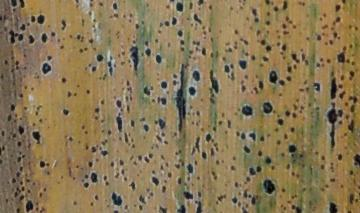tarspot: (173, 62, 187, 134), (325, 99, 336, 151), (209, 67, 220, 96), (128, 45, 140, 71), (262, 178, 276, 196), (114, 109, 124, 134), (260, 100, 275, 116), (240, 103, 255, 117), (39, 61, 53, 76), (106, 54, 115, 76), (110, 191, 123, 206), (31, 130, 43, 146), (329, 76, 337, 99), (267, 69, 279, 84), (192, 198, 204, 213), (193, 134, 202, 154), (237, 57, 248, 72), (156, 116, 167, 131), (191, 12, 203, 24), (37, 12, 46, 28), (327, 200, 338, 213), (214, 193, 227, 204), (127, 180, 138, 193), (336, 51, 346, 65), (90, 171, 100, 185), (352, 151, 360, 168), (346, 119, 355, 134), (289, 52, 300, 64), (186, 85, 197, 97), (158, 78, 169, 90), (142, 84, 153, 96), (290, 203, 303, 213), (186, 162, 196, 175), (154, 53, 164, 66), (40, 31, 49, 45), (239, 78, 247, 93), (242, 143, 252, 155), (191, 70, 201, 82), (156, 204, 169, 213), (27, 32, 36, 45), (8, 29, 15, 45), (287, 144, 298, 154), (312, 81, 322, 92), (182, 190, 193, 200), (176, 203, 187, 213), (95, 52, 105, 63), (9, 1, 19, 12), (333, 2, 342, 14), (280, 1, 289, 13), (248, 131, 257, 143), (210, 169, 219, 181), (151, 176, 160, 188), (18, 1, 27, 13), (348, 70, 356, 83), (257, 78, 265, 91), (59, 18, 67, 31), (25, 200, 33, 213), (247, 166, 257, 176), (114, 98, 123, 109), (238, 36, 249, 45), (277, 202, 288, 211), (348, 192, 355, 206), (171, 15, 178, 29), (347, 95, 359, 103), (328, 160, 335, 173), (275, 117, 285, 126), (250, 7, 259, 17), (261, 54, 271, 63), (229, 195, 239, 204), (59, 76, 69, 85), (227, 71, 236, 81), (137, 193, 146, 203), (97, 73, 107, 82), (175, 2, 183, 13), (142, 123, 150, 134), (17, 124, 25, 135), (154, 133, 162, 144), (289, 193, 300, 201), (122, 131, 128, 145), (79, 17, 86, 29), (208, 97, 217, 106), (195, 190, 204, 199), (100, 148, 109, 157), (65, 133, 74, 142), (338, 90, 346, 100), (280, 42, 288, 52), (254, 28, 262, 38), (264, 155, 272, 165), (195, 1, 205, 9), (19, 22, 27, 32), (17, 32, 25, 42), (124, 85, 134, 93), (337, 106, 343, 119), (226, 117, 232, 130), (189, 146, 196, 157), (29, 14, 36, 25), (336, 152, 344, 161), (349, 103, 355, 115), (289, 125, 297, 134), (251, 16, 260, 24), (243, 188, 249, 200), (61, 108, 70, 116), (82, 180, 90, 189), (97, 1, 106, 9), (263, 19, 273, 26), (129, 119, 136, 129), (160, 96, 167, 106), (223, 63, 230, 73), (176, 176, 183, 186), (87, 159, 94, 169), (280, 30, 291, 36), (240, 129, 246, 140), (204, 132, 210, 143), (201, 150, 207, 161), (66, 89, 72, 100), (214, 141, 220, 152), (125, 103, 131, 114), (209, 144, 214, 157), (334, 15, 342, 23), (315, 34, 323, 42), (282, 132, 290, 140), (291, 103, 299, 111), (259, 38, 267, 46), (144, 48, 152, 56), (176, 29, 184, 37), (160, 185, 168, 193), (45, 54, 53, 62), (93, 106, 101, 114), (87, 37, 95, 45), (163, 161, 171, 169), (100, 138, 108, 146), (314, 104, 322, 112), (250, 53, 257, 62), (256, 148, 263, 157), (255, 164, 262, 173), (328, 176, 337, 183), (285, 162, 292, 171), (250, 196, 257, 205), (240, 206, 249, 213), (99, 97, 106, 106), (77, 45, 84, 54), (118, 158, 125, 167), (173, 149, 182, 156), (124, 78, 131, 87), (83, 142, 90, 151), (297, 1, 307, 7), (300, 50, 305, 62), (253, 85, 259, 95), (200, 46, 206, 56), (188, 1, 193, 13), (112, 1, 118, 11), (10, 101, 15, 113), (6, 114, 12, 124), (143, 155, 149, 165), (214, 50, 220, 60), (125, 95, 131, 105), (329, 68, 336, 76), (285, 75, 293, 82), (291, 111, 298, 119), (293, 96, 300, 104), (265, 45, 272, 53), (259, 135, 266, 143), (318, 162, 325, 170), (229, 164, 236, 172), (91, 65, 98, 73), (38, 160, 46, 167), (15, 140, 23, 147), (241, 49, 249, 56), (15, 205, 22, 213), (93, 193, 100, 201), (13, 58, 21, 65), (90, 145, 97, 153), (164, 4, 171, 12), (127, 11, 134, 19), (106, 128, 113, 136), (67, 165, 72, 176), (339, 73, 345, 82), (328, 38, 334, 47), (331, 30, 337, 39), (286, 65, 292, 74), (320, 152, 326, 161), (234, 180, 240, 189), (50, 30, 56, 39), (134, 22, 140, 31), (224, 47, 233, 53), (19, 193, 25, 202), (148, 151, 154, 160), (209, 51, 215, 60), (75, 32, 81, 41), (128, 94, 134, 103), (1, 128, 6, 138), (3, 57, 8, 67), (233, 40, 238, 50), (348, 169, 355, 176), (337, 119, 344, 126), (325, 57, 332, 64), (272, 5, 279, 12), (278, 79, 285, 86), (275, 138, 282, 145), (304, 86, 311, 93), (232, 28, 239, 35), (280, 186, 287, 193), (71, 199, 78, 206), (195, 39, 202, 46), (187, 103, 194, 110), (301, 78, 308, 85), (320, 24, 328, 30), (317, 16, 325, 22), (284, 109, 290, 117), (299, 103, 305, 111), (281, 22, 287, 30), (284, 14, 290, 22), (270, 163, 276, 171), (245, 175, 253, 181), (164, 20, 170, 28), (220, 111, 226, 119), (166, 171, 172, 179), (38, 116, 44, 124), (35, 103, 43, 109), (137, 153, 143, 161), (173, 163, 181, 169), (112, 12, 120, 18), (57, 44, 65, 50), (100, 127, 106, 135), (70, 173, 76, 181), (279, 151, 287, 157), (199, 126, 205, 134), (338, 82, 343, 91), (345, 57, 350, 66), (235, 130, 240, 139), (156, 96, 161, 105), (16, 155, 21, 164), (120, 167, 125, 176), (122, 12, 127, 21), (350, 60, 356, 67), (348, 43, 354, 50), (353, 25, 359, 32), (291, 24, 298, 30), (318, 56, 324, 63), (303, 59, 310, 65), (297, 86, 304, 92), (265, 10, 272, 16), (281, 55, 288, 61), (259, 61, 265, 68), (295, 172, 301, 179), (244, 202, 250, 209), (172, 72, 179, 78), (179, 39, 185, 46), (85, 87, 91, 94), (10, 132, 17, 138), (229, 62, 235, 69), (225, 41, 232, 47), (138, 204, 144, 211), (11, 177, 17, 184), (15, 170, 21, 177), (18, 165, 24, 172), (39, 207, 46, 213), (26, 188, 32, 195), (18, 93, 25, 99), (22, 85, 29, 91), (8, 67, 15, 73), (104, 180, 110, 187), (109, 160, 115, 167), (132, 159, 138, 166), (161, 131, 167, 138), (150, 169, 157, 175), (188, 48, 194, 55), (207, 26, 213, 33), (200, 24, 207, 30), (87, 9, 93, 16), (116, 52, 122, 59), (131, 37, 137, 44), (80, 124, 86, 131), (74, 163, 80, 170), (45, 170, 52, 176), (31, 179, 37, 186), (21, 52, 28, 58), (68, 33, 74, 40), (194, 120, 200, 127), (345, 208, 353, 213), (290, 169, 295, 177), (215, 158, 220, 166), (245, 15, 250, 23), (20, 184, 25, 192), (103, 174, 108, 182), (73, 4, 81, 9), (353, 197, 359, 203), (336, 35, 342, 41), (321, 11, 327, 17), (314, 62, 320, 68), (275, 41, 281, 47), (265, 29, 271, 35), (243, 73, 249, 79), (278, 91, 284, 97), (243, 180, 249, 186), (231, 154, 237, 160), (172, 79, 178, 85), (207, 4, 213, 10), (143, 40, 149, 46), (179, 46, 185, 52), (45, 161, 51, 167), (217, 119, 223, 125), (123, 203, 129, 209), (1, 144, 7, 150), (24, 177, 30, 183), (33, 110, 39, 116), (122, 176, 128, 182), (159, 154, 165, 160), (201, 30, 207, 36), (91, 17, 97, 23), (120, 60, 126, 66), (93, 114, 99, 120), (75, 82, 81, 88), (228, 5, 234, 11), (238, 4, 244, 10), (83, 65, 89, 71), (339, 182, 344, 189), (348, 23, 353, 30), (264, 1, 271, 6), (324, 183, 331, 188), (221, 55, 226, 62), (84, 173, 89, 180), (88, 201, 95, 206), (22, 105, 29, 110), (180, 160, 185, 167), (211, 125, 216, 132), (190, 38, 195, 45), (209, 35, 214, 42), (121, 49, 126, 56), (42, 186, 47, 193), (301, 186, 306, 193), (224, 129, 229, 136), (324, 40, 328, 48), (293, 62, 297, 70), (315, 149, 319, 157), (14, 191, 18, 199), (131, 142, 135, 150), (73, 1, 81, 5), (199, 96, 203, 104), (290, 152, 295, 158), (298, 153, 304, 158), (341, 46, 347, 51), (304, 35, 310, 40), (274, 127, 279, 133), (157, 28, 162, 34), (1, 146, 4, 156), (4, 197, 9, 203), (31, 122, 37, 127), (29, 86, 35, 91), (83, 46, 89, 51), (163, 140, 169, 145), (191, 55, 196, 61), (88, 4, 94, 9), (90, 23, 96, 28), (84, 129, 89, 135), (73, 91, 78, 97), (59, 174, 64, 180), (145, 2, 150, 8), (146, 195, 152, 200), (149, 190, 154, 196), (145, 187, 150, 193), (87, 61, 92, 67), (196, 174, 201, 180), (320, 186, 324, 193), (159, 21, 163, 28), (154, 37, 158, 44), (14, 30, 18, 37), (195, 109, 199, 116), (1, 157, 5, 164), (14, 65, 21, 69), (130, 136, 134, 143), (159, 163, 163, 170), (91, 28, 98, 32), (190, 119, 194, 126), (167, 40, 170, 49), (1, 72, 4, 81), (330, 20, 335, 25), (320, 63, 325, 68), (288, 19, 293, 24), (38, 192, 43, 197), (35, 201, 40, 206), (100, 118, 105, 123), (105, 203, 110, 208), (22, 65, 27, 70), (307, 102, 312, 107), (128, 19, 133, 24), (340, 1, 346, 5), (329, 26, 335, 30), (278, 51, 284, 55), (275, 29, 281, 33), (150, 97, 154, 103), (112, 209, 118, 213), (210, 138, 214, 144), (357, 183, 360, 190), (276, 35, 283, 38), (168, 1, 175, 4), (203, 35, 207, 40), (34, 207, 40, 210), (18, 151, 22, 155), (187, 54, 191, 58), (242, 1, 247, 4), (358, 191, 360, 197), (88, 1, 94, 3), (237, 1, 243, 3)
